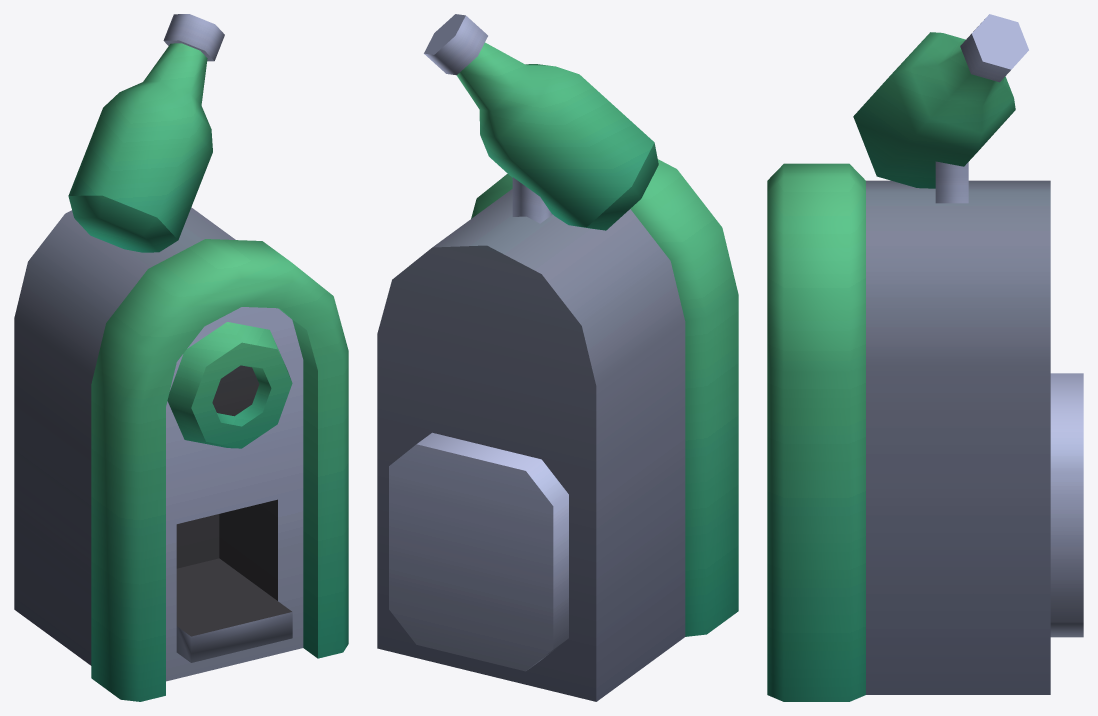
Rendered from market.bottle_return.glb.
3 renders of one model, left to right at view 1: azimuth 30°, elevation 25°; view 2: azimuth 150°, elevation 25°; view 3: azimuth 270°, elevation 25°, orthographic. The views are drawn at different scales.
Parts seen in each view (by area): view 1: bottle-return; view 2: bottle-return; view 3: bottle-return.
Boxes of the visible parts, <box> form: bottle-return: <box>14,14,348,701</box>; bottle-return: <box>377,14,738,701</box>; bottle-return: <box>767,14,1083,701</box>.
Bounding box in the file's own units: 1.15 × 2.79 × 1.23.
Materials: 1 (1 with a texture image).
